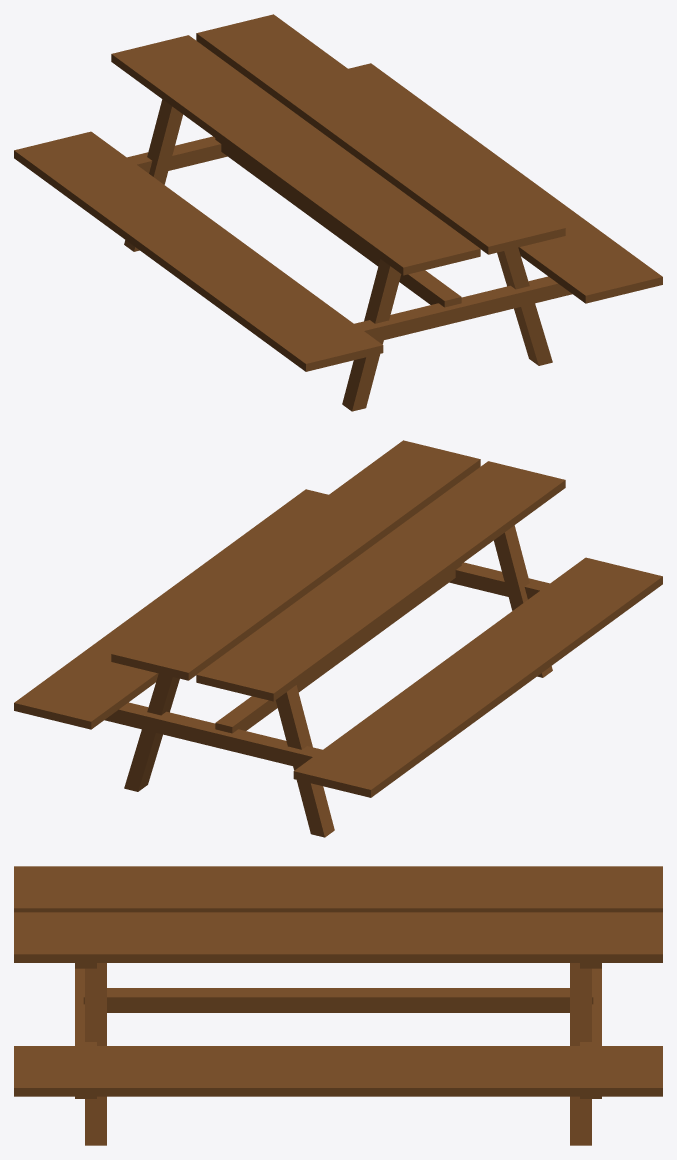
Rendered from mesa picnic.fbx.
The picture shows the model from 3 angles, top to bottom: view 1: azimuth 30°, elevation 25°; view 2: azimuth 150°, elevation 25°; view 3: azimuth 270°, elevation 25°; orthographic projection. The views are drawn at different scales.
Visible parts, largest first — view 1: tabla.003; view 2: tabla.003; view 3: tabla.003.
Boxes of the visible parts, x1=… form: tabla.003: x1=14, y1=14, x2=662, y2=411; tabla.003: x1=14, y1=440, x2=662, y2=837; tabla.003: x1=14, y1=866, x2=662, y2=1145.
Bounding box in the file's own units: 184 × 79.96 × 260.
